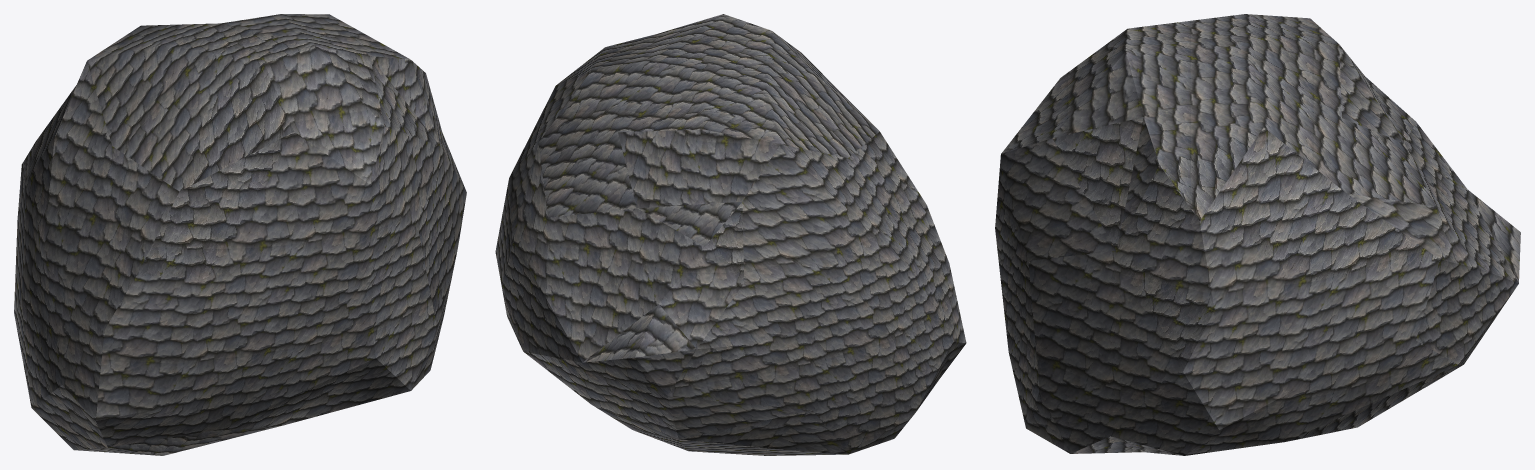
File: grock_k.glb
3 views of the same model, side by side, from view 1: azimuth 30°, elevation 25°; view 2: azimuth 150°, elevation 25°; view 3: azimuth 270°, elevation 25° (orthographic). The views are drawn at different scales.
Visible parts, largest first — view 1: model; view 2: model; view 3: model.
Part boxes in pixels (left/top/right/bottom): model: left=14, top=14, right=466, bottom=455; model: left=495, top=14, right=966, bottom=455; model: left=995, top=14, right=1520, bottom=455.
Size of the model in its own units: 2.61 by 2.23 by 2.57.
1 material, 1 textured.
